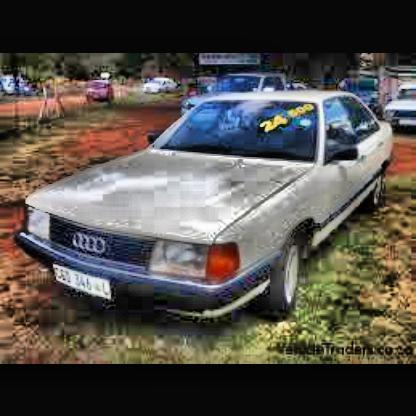Audi 100 Sedan 1994: (19, 90, 399, 329)
